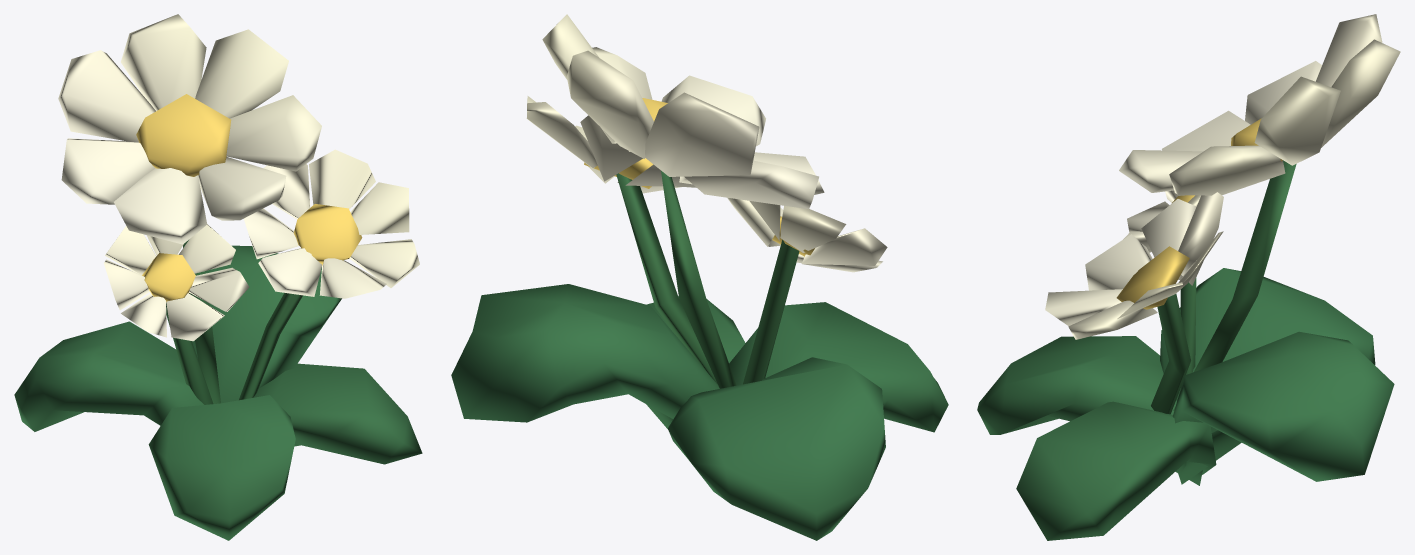
The model's file is Furniture_Plants_22.fbx.
3 renders of one model, left to right at view 1: azimuth 30°, elevation 25°; view 2: azimuth 150°, elevation 25°; view 3: azimuth 270°, elevation 25°, orthographic. The views are drawn at different scales.
Parts seen in each view (by area): view 1: Furniture_Plants_22; view 2: Furniture_Plants_22; view 3: Furniture_Plants_22.
Boxes of the visible parts, x1,y1,x2,y2 form: Furniture_Plants_22: [14, 14, 422, 540]; Furniture_Plants_22: [451, 14, 948, 540]; Furniture_Plants_22: [977, 14, 1400, 540].
Bounding box in the file's own units: 50.61 × 57.21 × 48.06.
